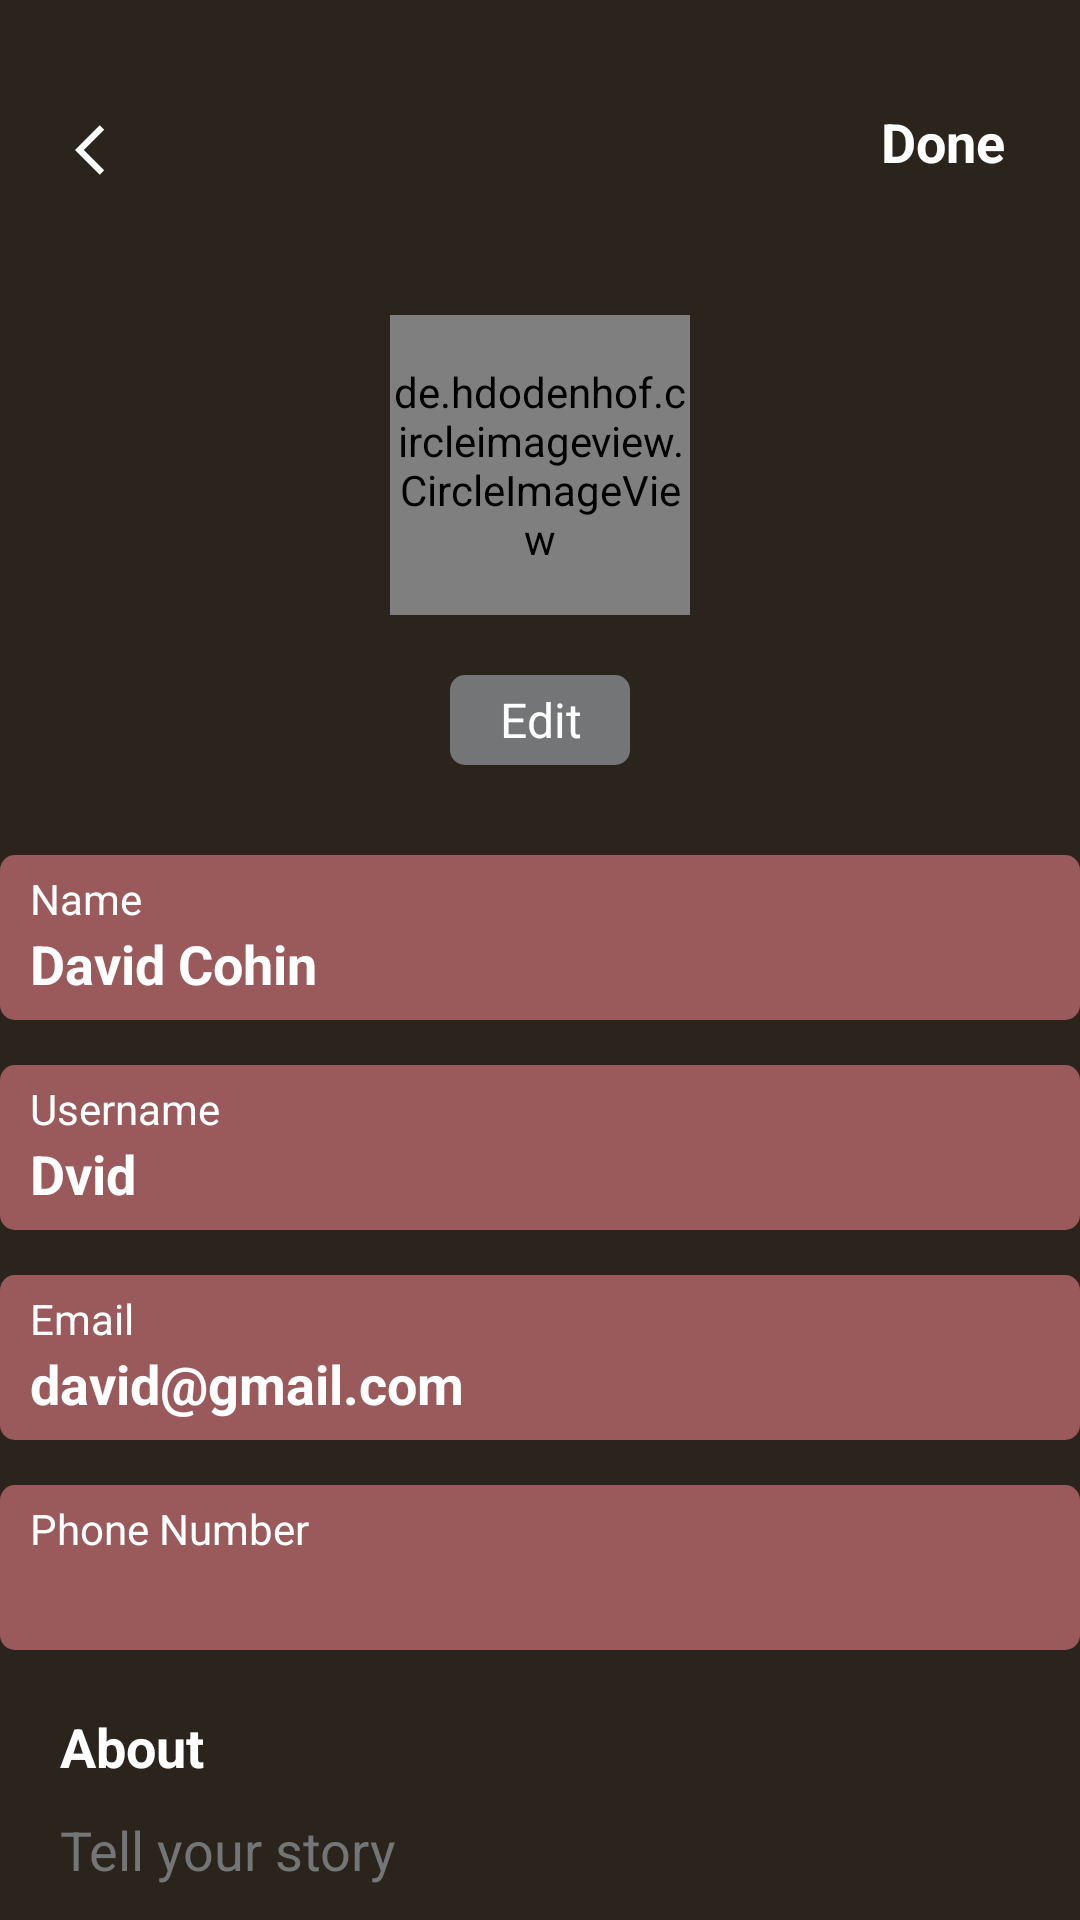

Named icons in this screenshot (1080 x 1920) and their centers, [x,y]:
back arrow: [89,150]
